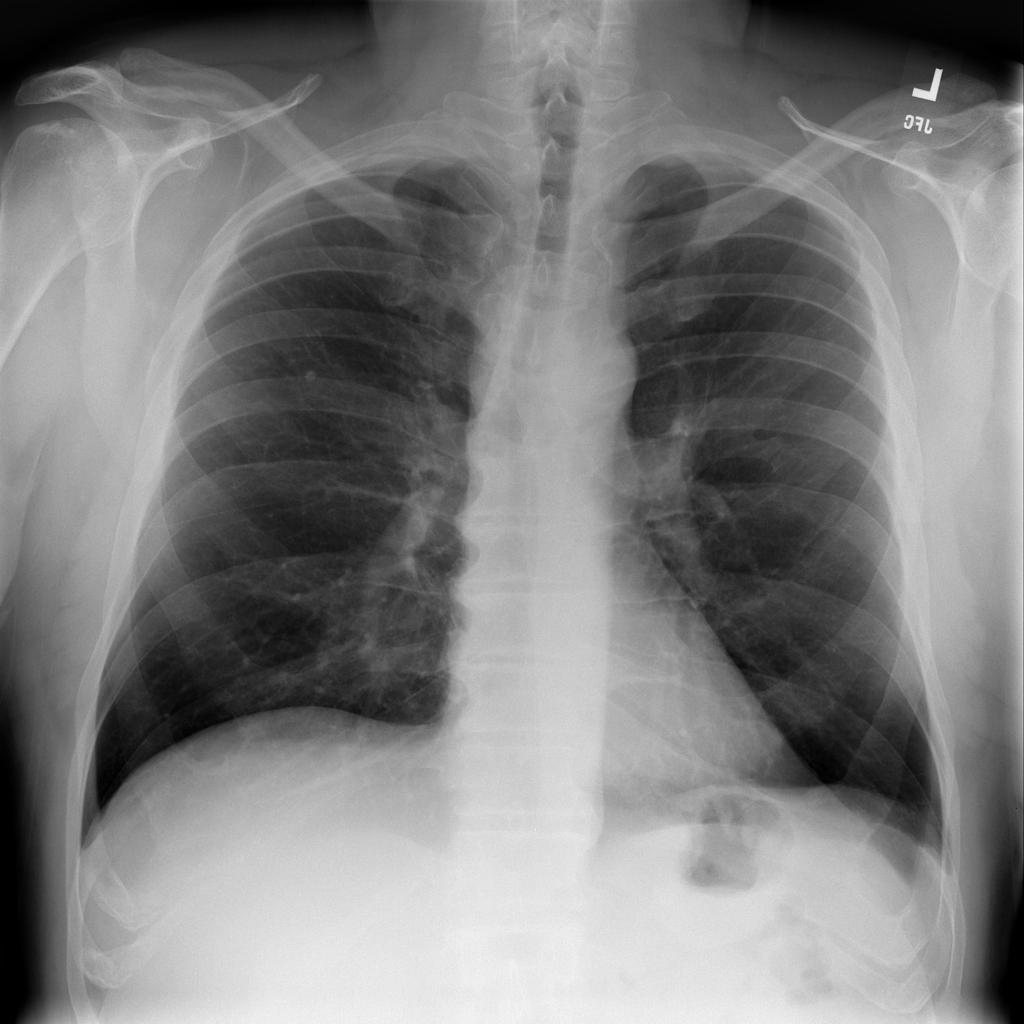nodule: (282, 350, 334, 401)
